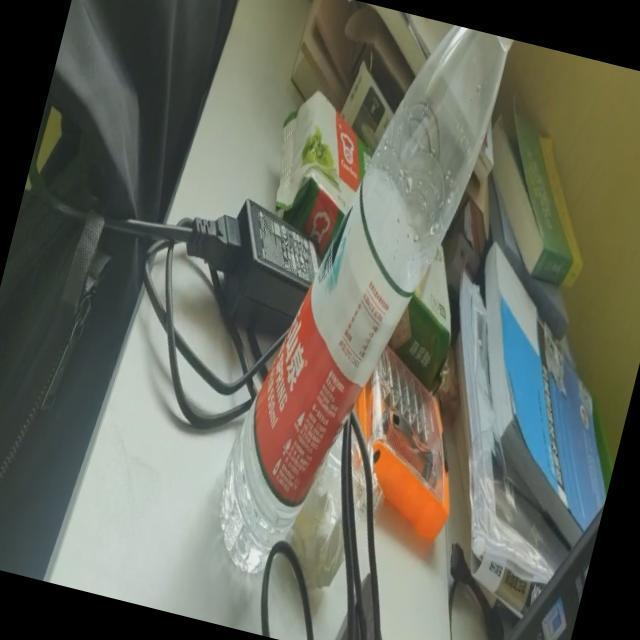good: (200, 0, 517, 610)
